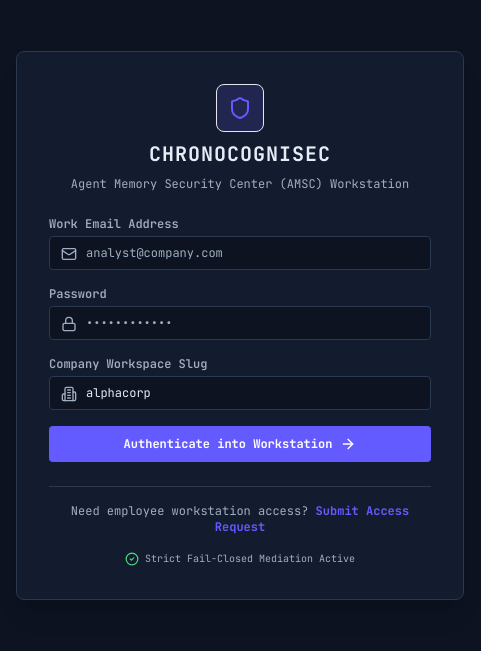
Test: Phase 1 IAM Frontend Flow › LoginPage Component › displays error message on authentication failure
This screenshot has width=481, height=651.
Type "unknown@alphacorp.com" into the field labelled "Work Email Address" at (240, 252), box x1=49 y1=236 x2=431 y2=270
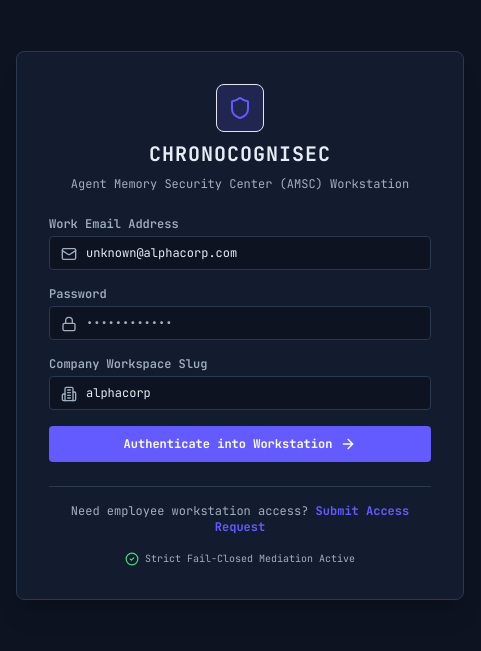
Type "badpass" into the password field labelled "Password" at (240, 322), box x1=49 y1=306 x2=431 y2=340
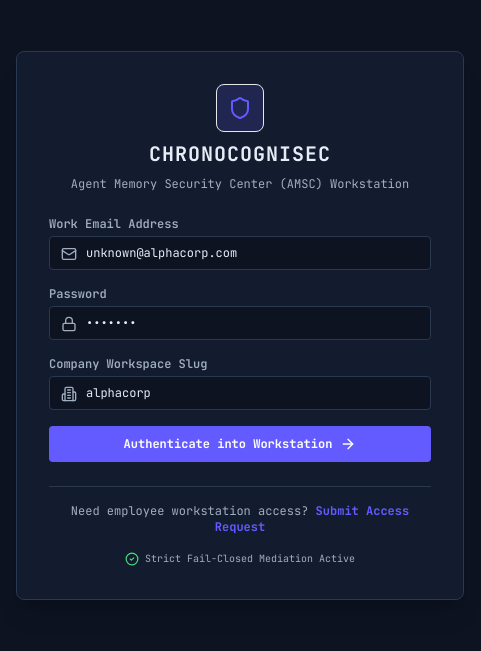
Click the button "Authenticate into Workstation" at (240, 444), box x1=49 y1=426 x2=431 y2=462
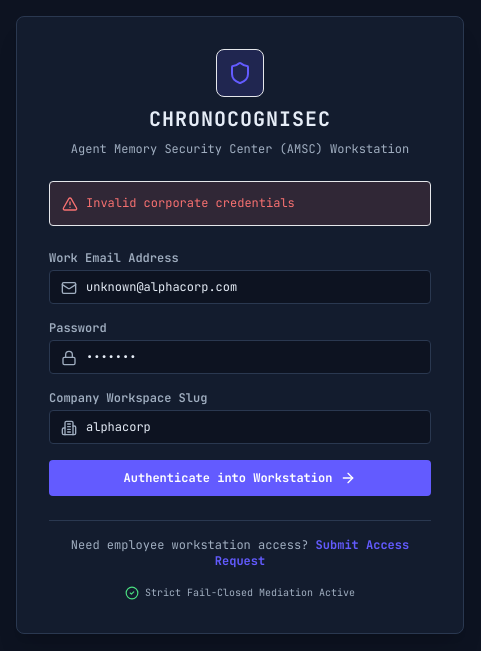
expect the message "Invalid corporate credentials" is shown: met, box x1=49 y1=181 x2=431 y2=226
expect the text "Invalid corporate credentials" is shown: met, box x1=86 y1=194 x2=295 y2=213
